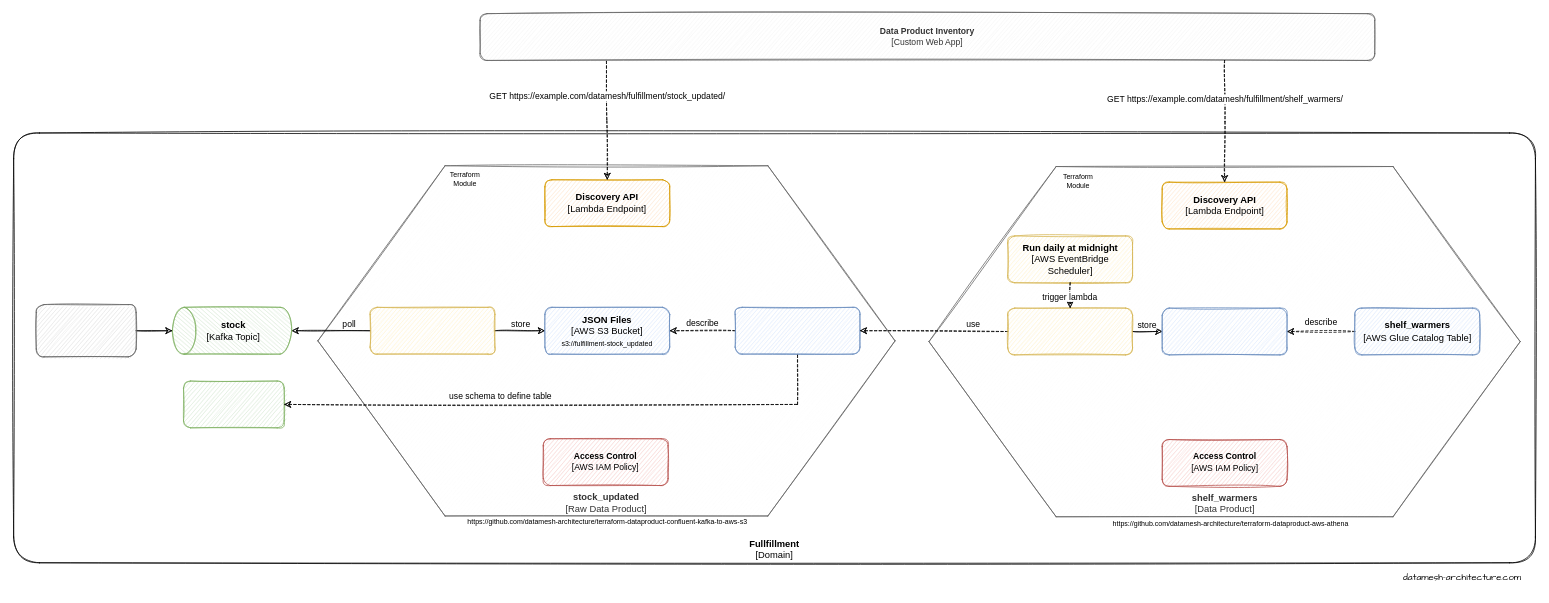
Some shapes in this 1549 by 603 pixel diagram are drawn without their labels. The shapes that lost their labels are listed below. From the top down, each one's box as (x1, y1, x2, y2) in pixels, then its label:
(35, 304, 136, 357): Stock Service [Spring Boot]
(369, 307, 495, 354): Topic to S3 [S3 Sink Connector for Confluent]
(734, 307, 860, 354): stock_updated [AWS Glue Catalog Table]
(1007, 307, 1133, 355): SQL Query [AWS Athena Query]
(1161, 307, 1287, 355): Parquet Files [AWS S3 Bucket] s3://fulfillment-shelf_warmers
(183, 380, 284, 428): stock_updated event [JSON Schema]
